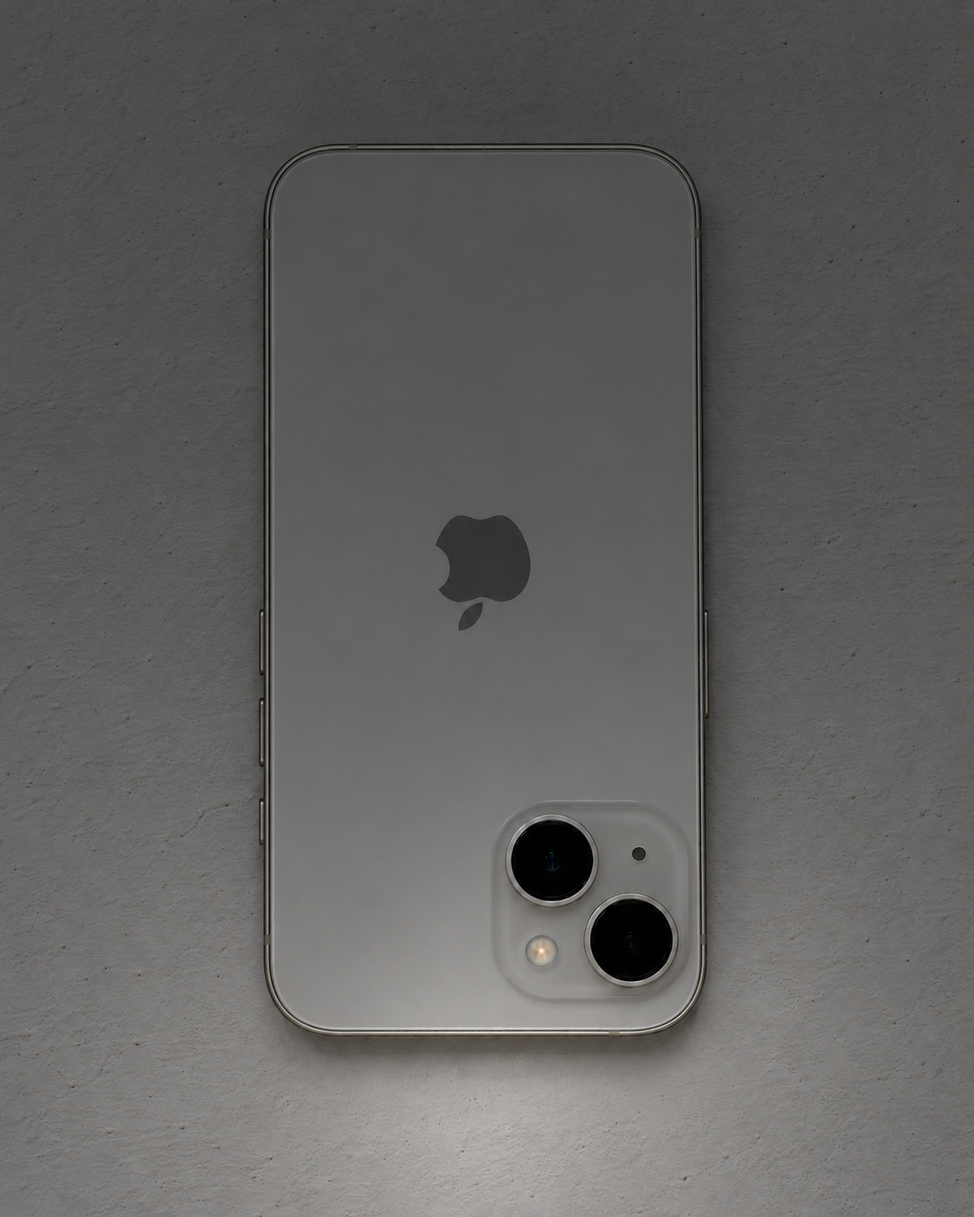iphone_14_white: (217, 94, 791, 1099), (482, 792, 697, 1014)
